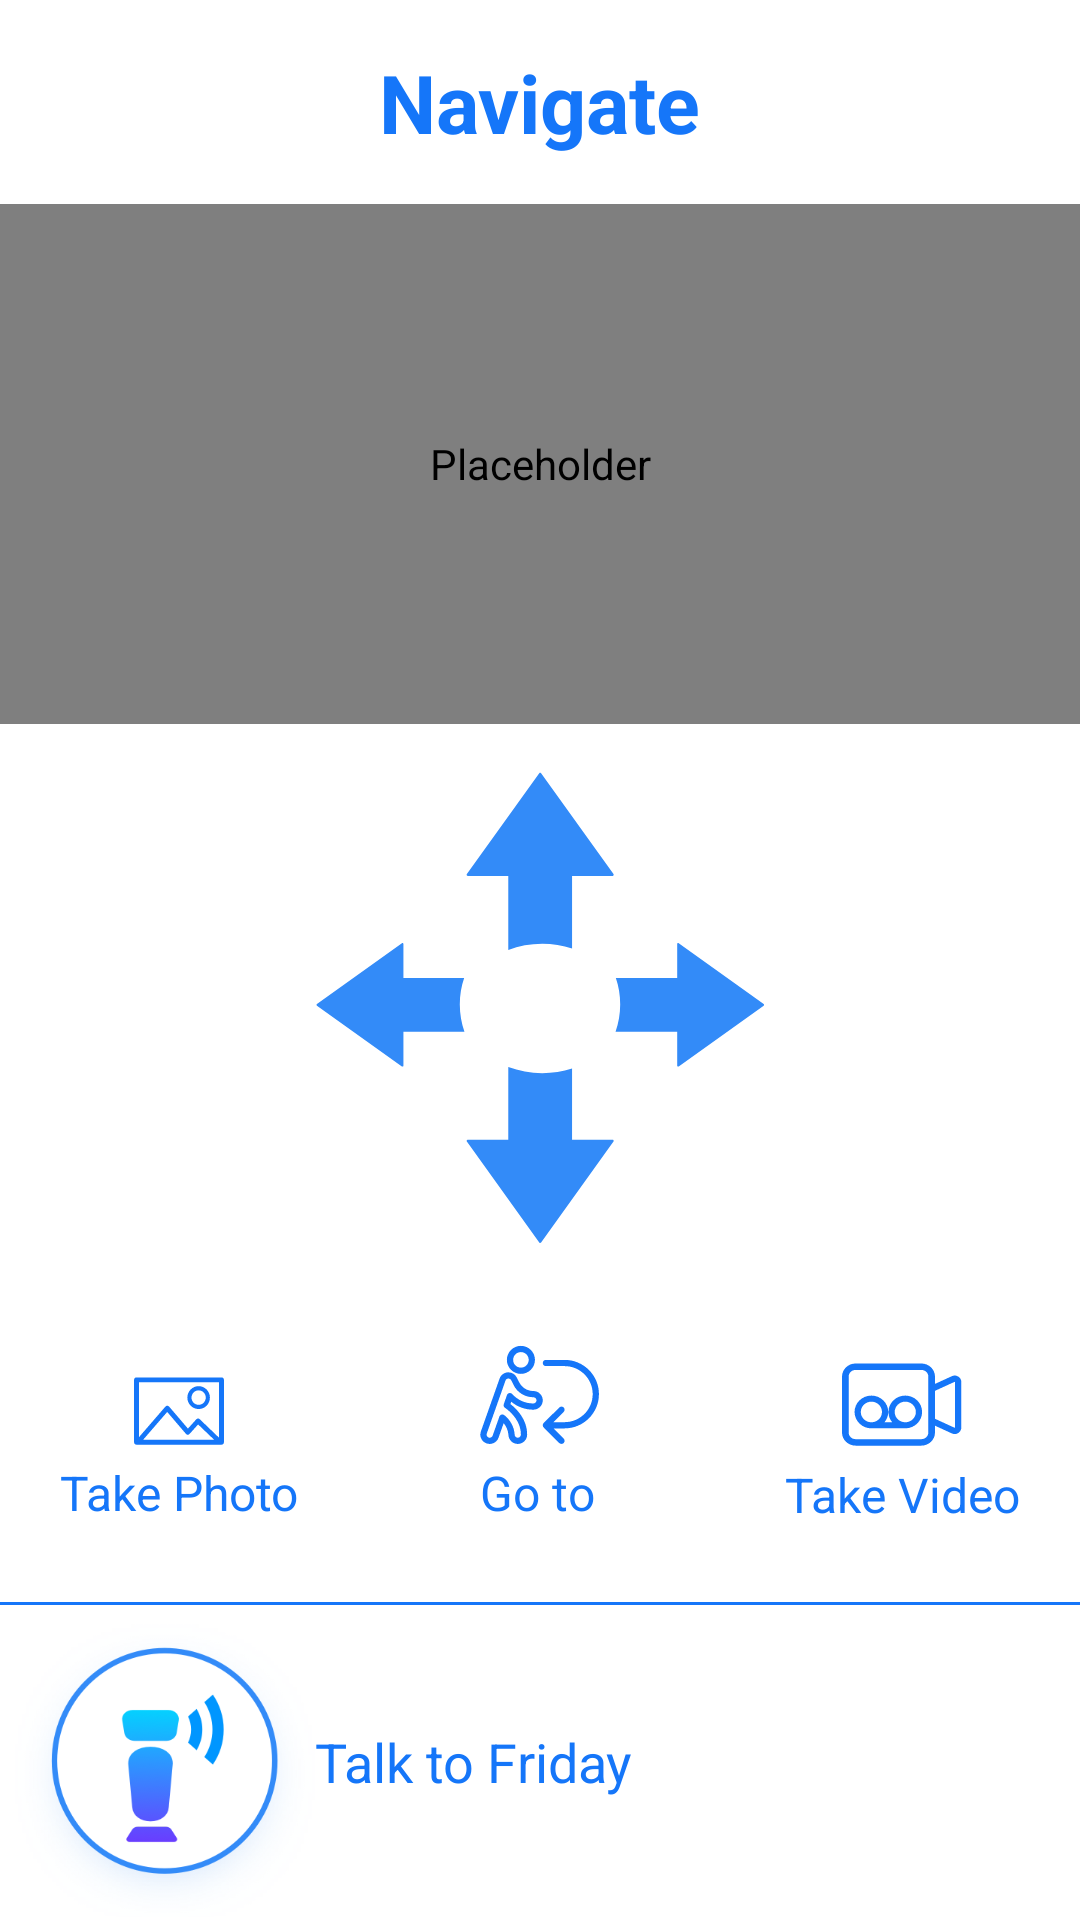

Screen size 1080*1920. Icon name, then its box in pixels as [left=x1, top=y1, right=x2, bottom=y2]:
speak: [left=51, top=1647, right=278, bottom=1874]
